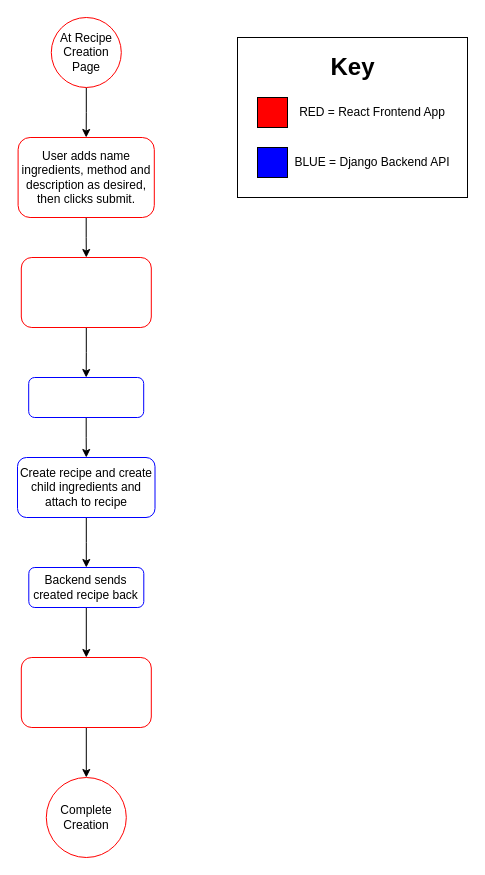
The diagram is 485 pixels wide and 875 high, and some of its shapes have lost their labels. The shapes that lost their labels are listed below. From the top down, each one's centre as x and y in pixels, then its label:
At point 85,292: "POST Request sent to Django Backend recipe fields".
At point 86,397: "Backend Recieves POST request".
At point 85,692: "Redirect user to the detail view for the newly created recipe".
